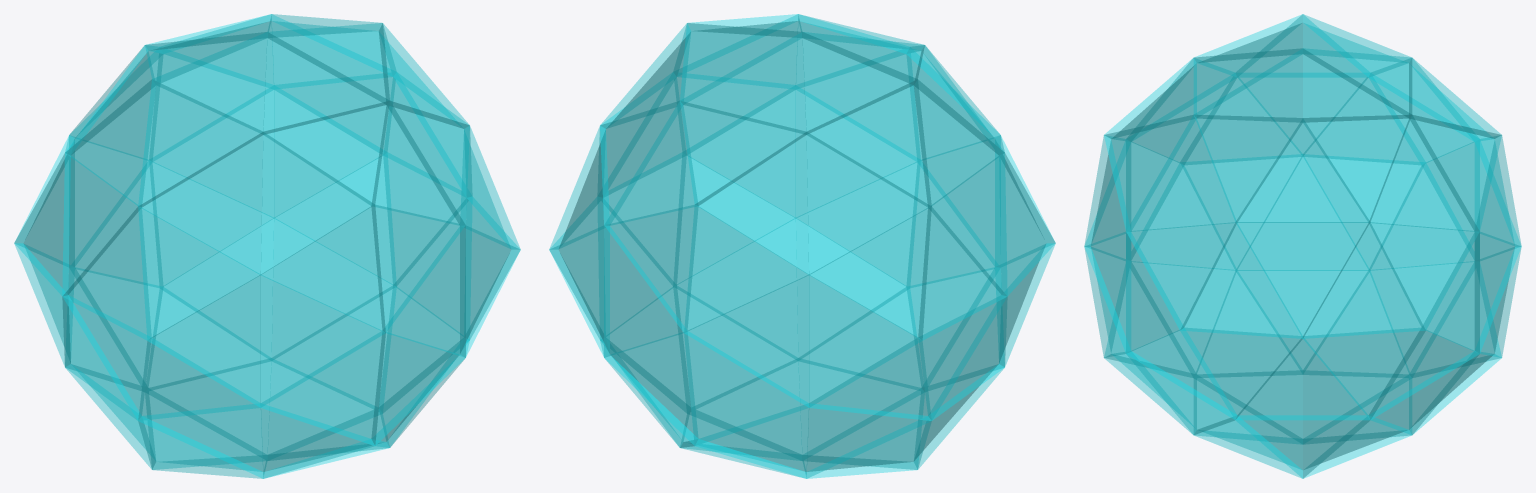
File: Shield.fbx
The picture shows the model from 3 angles, left to right: view 1: azimuth 30°, elevation 25°; view 2: azimuth 150°, elevation 25°; view 3: azimuth 270°, elevation 25°; orthographic projection. The views are drawn at different scales.
Parts seen in each view (by area): view 1: pSolid1; view 2: pSolid1; view 3: pSolid1.
Part boxes in pixels (x1,y1,x2,y2): pSolid1: (14, 14, 520, 478); pSolid1: (549, 14, 1055, 478); pSolid1: (1084, 14, 1521, 478).
Size of the model in its own units: 23.16 by 23.16 by 23.16.
